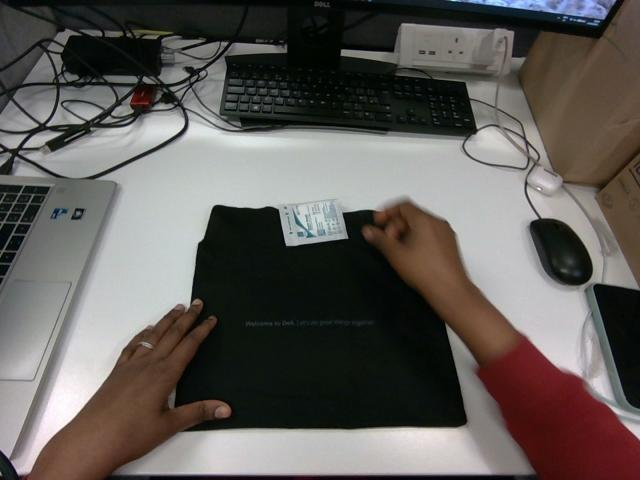gauze: (278, 200, 348, 245), (279, 199, 347, 245)
